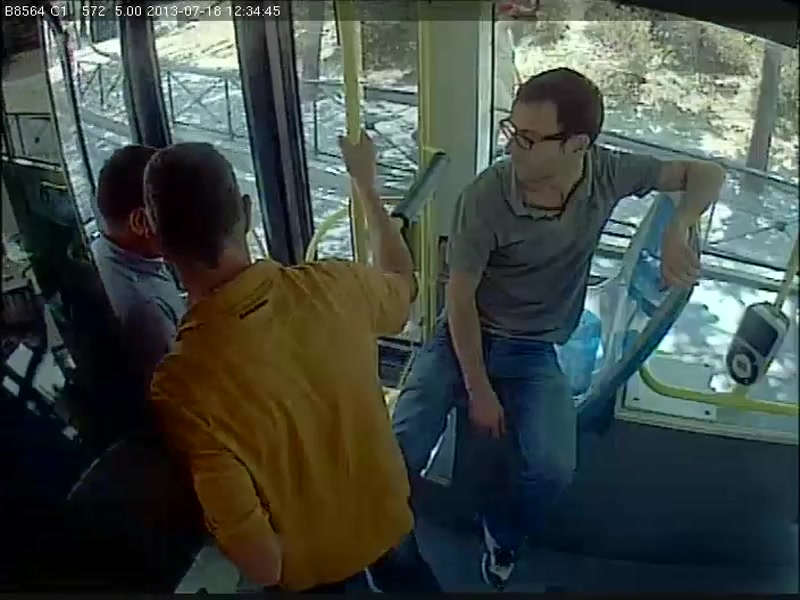Head: (142, 138, 266, 282), (493, 63, 609, 194), (91, 140, 151, 249)
